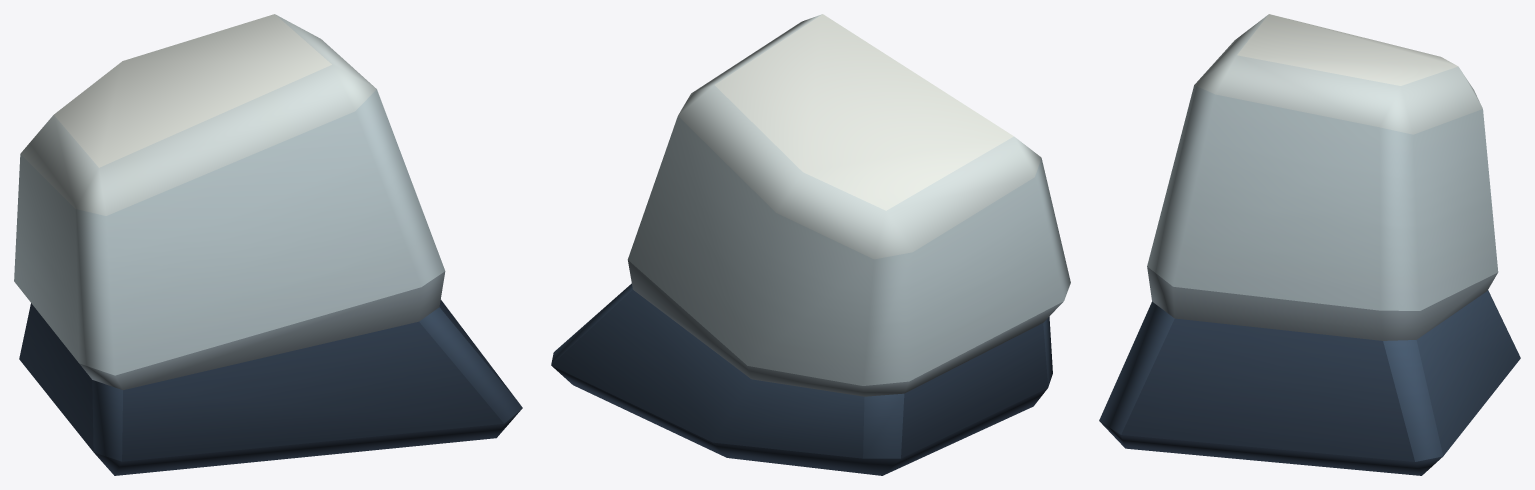
The model's file is rock_snow_07.fbx.
The picture shows the model from 3 angles, left to right: view 1: azimuth 30°, elevation 25°; view 2: azimuth 150°, elevation 25°; view 3: azimuth 270°, elevation 25°; orthographic projection. The views are drawn at different scales.
Visible parts, largest first — view 1: rock_snow_07; view 2: rock_snow_07; view 3: rock_snow_07.
Boxes of the visible parts, box(x1,y1,x2,y2) form: rock_snow_07: box(14, 14, 522, 475); rock_snow_07: box(551, 14, 1070, 475); rock_snow_07: box(1099, 14, 1520, 475).
Size of the model in its own units: 72.55 by 56.17 by 62.55.
Materials: 1 (1 with a texture image).
